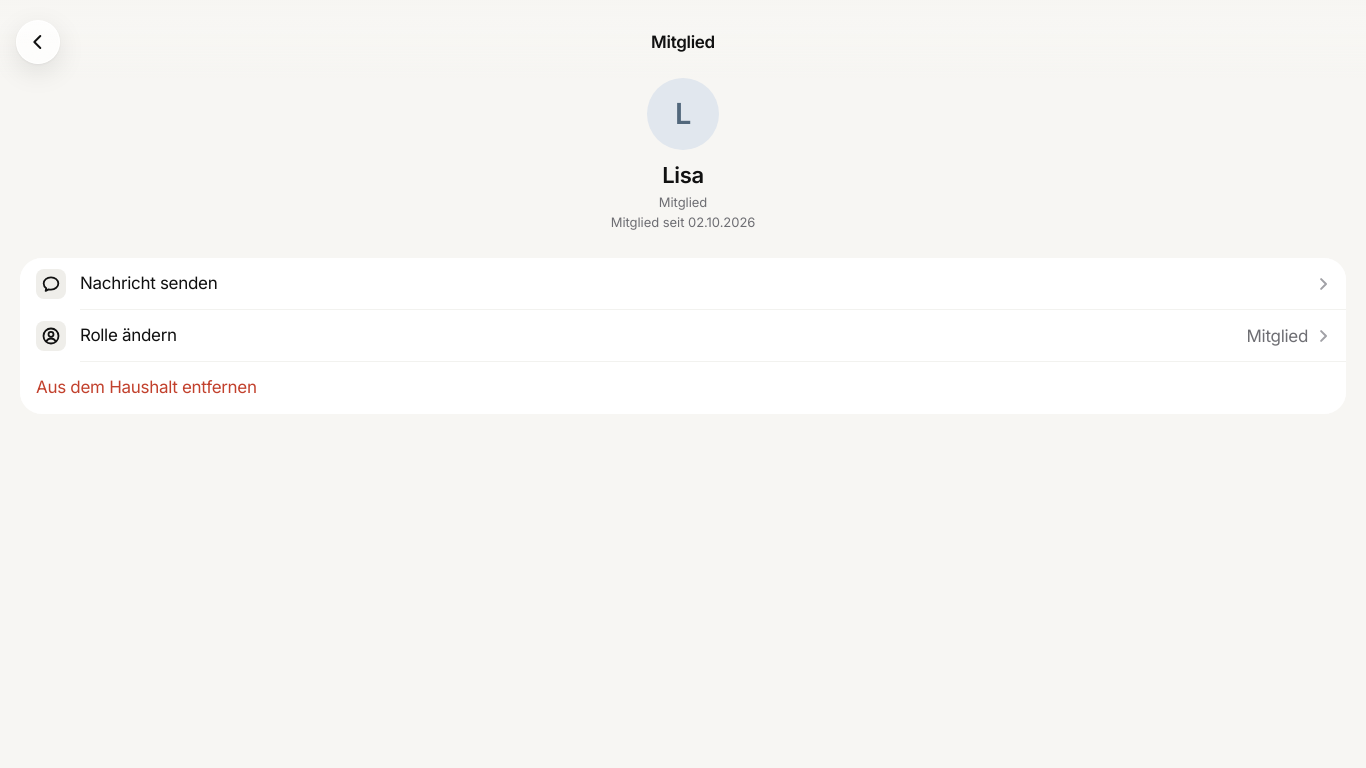
MemberScreen › OWNER sees message, role change and removal for a MEMBER
Expected: the heading "Lisa" is shown, [662, 162, 704, 190]
Expected: the text "Mitglied seit 02.10.2026" is shown, [611, 214, 755, 231]
What coordinates should you click on to do the following:
click the button with aria-label "Rolle ändern, Mitglied"
I would click on:
 (128, 335)
Its box is [20, 310, 1346, 362].
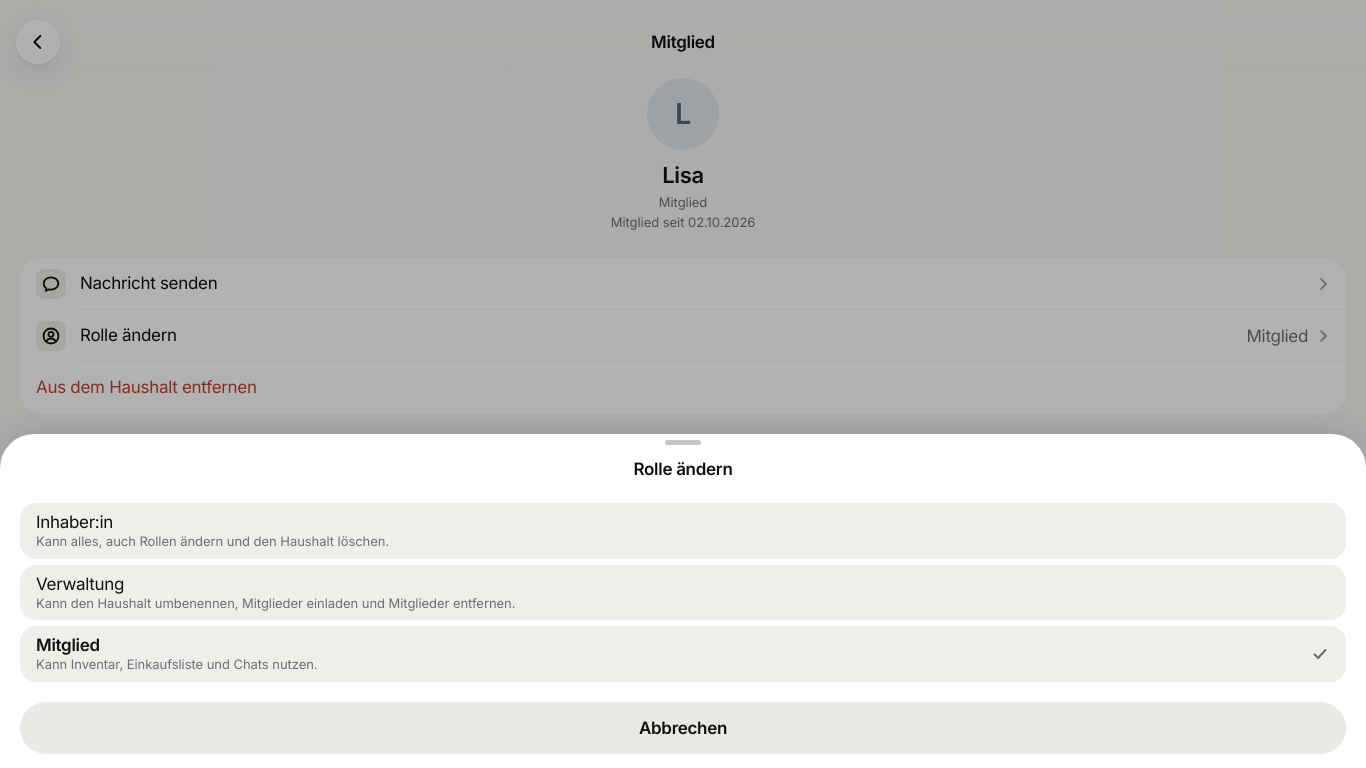
What coordinates should you click on to do the following:
click the radio button labelled "Verwaltung"
I would click on:
 (80, 584)
Its box is [20, 565, 1346, 620].
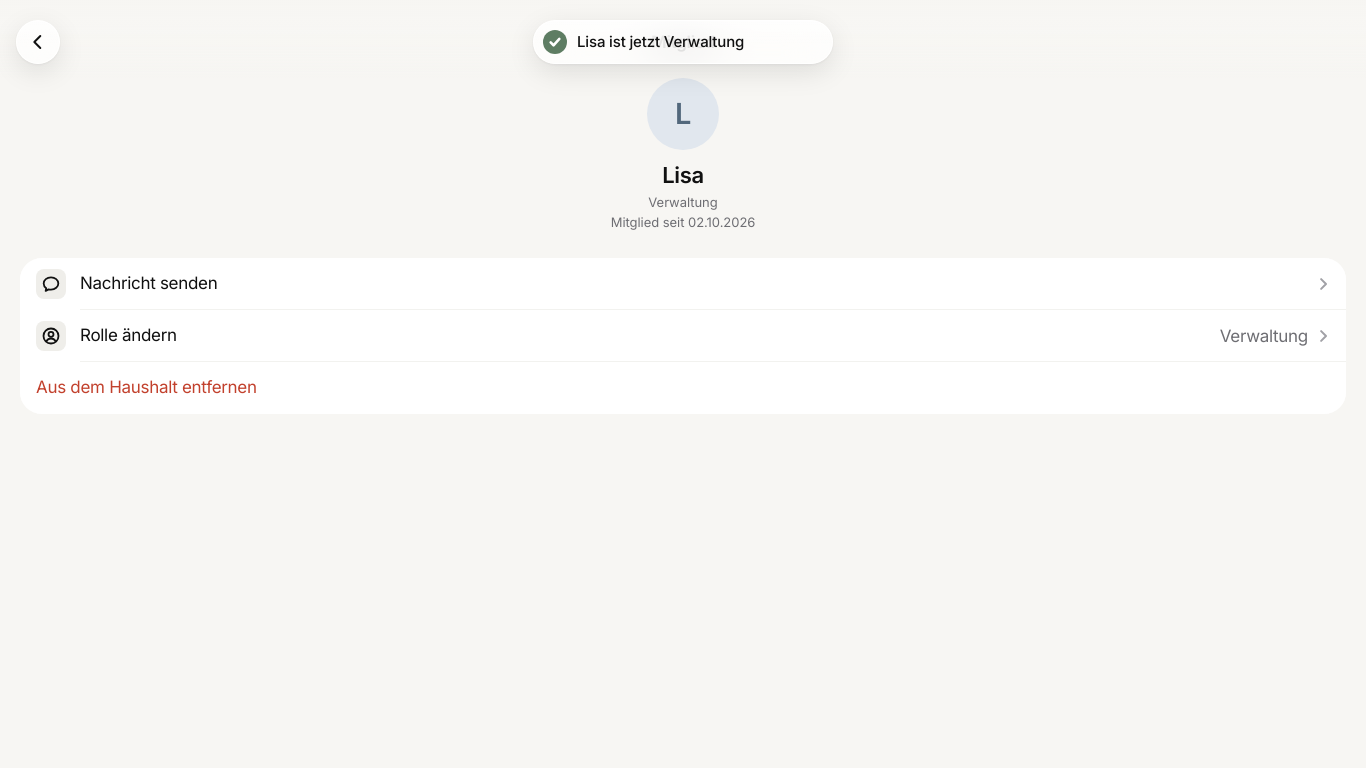
Expected: the text "Lisa ist jetzt Verwaltung" is shown, [577, 32, 744, 51]
